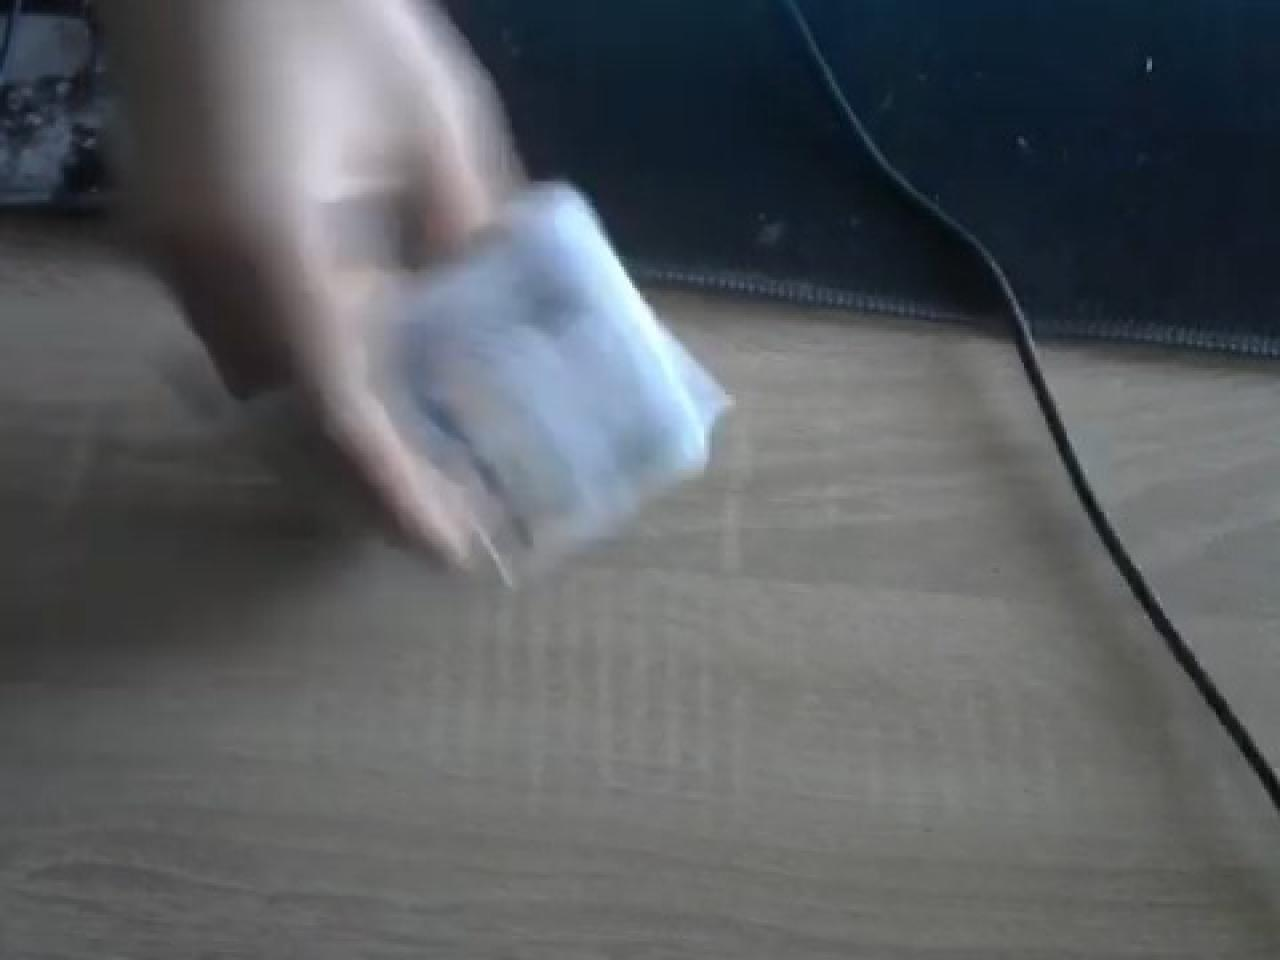20leva: (94, 0, 734, 587)
